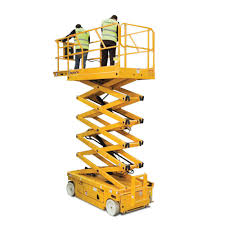Scissor Lift: (52, 22, 157, 217)
